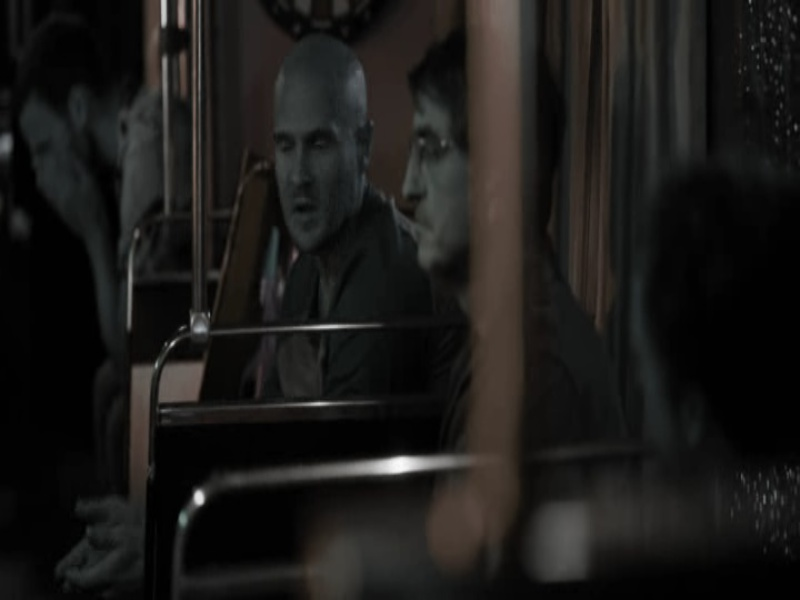TsisyArotava: (263, 56, 374, 258)
